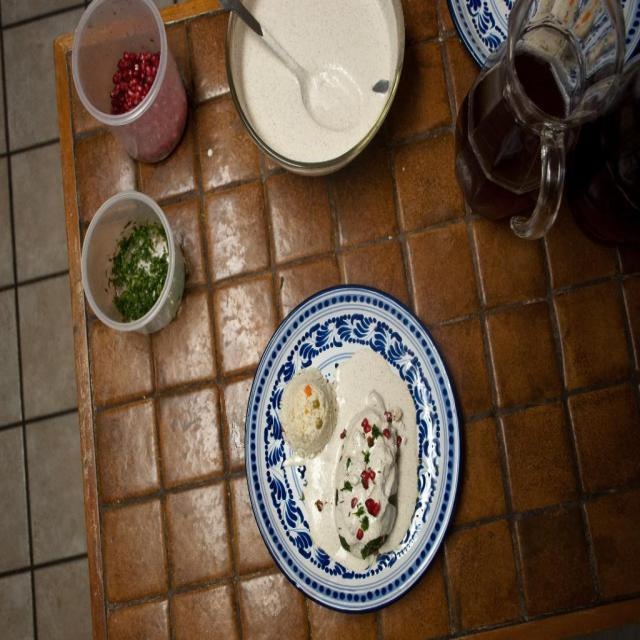non-organic waste: (248, 276, 466, 620), (207, 9, 420, 172)
